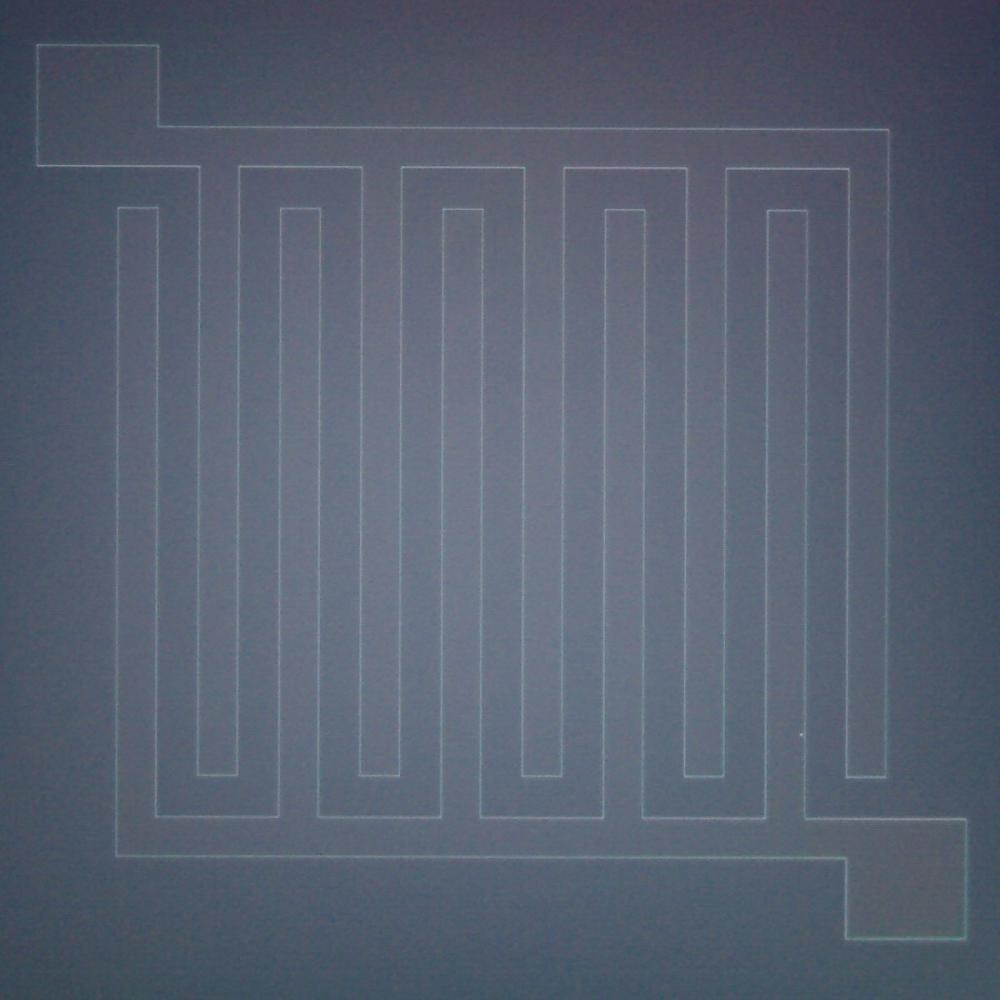dot: (799, 732, 803, 736)
